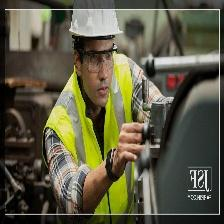Person: (41, 2, 176, 224)
helmet: (67, 1, 125, 42)
vest: (62, 90, 131, 224)
